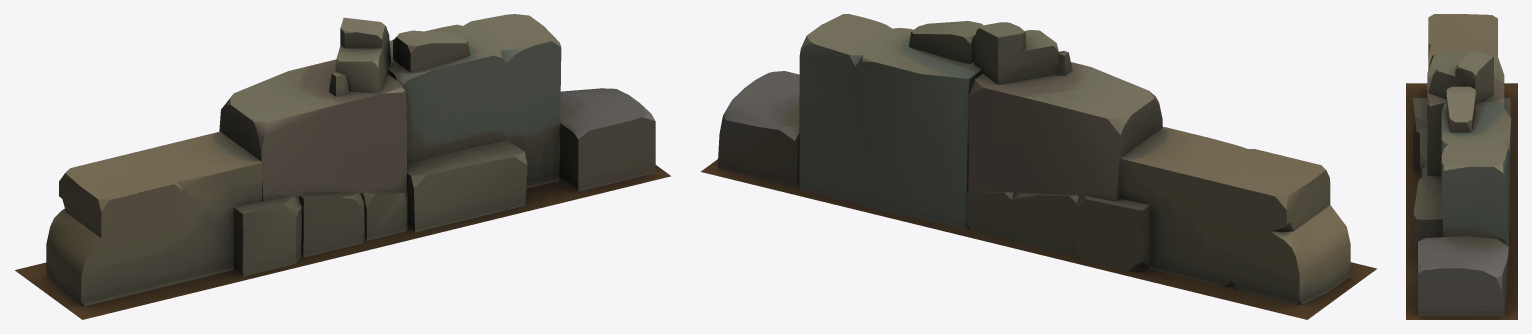
The model's file is RockMid_1.obj.
The picture shows the model from 3 angles, left to right: view 1: azimuth 30°, elevation 25°; view 2: azimuth 150°, elevation 25°; view 3: azimuth 270°, elevation 25°; orthographic projection. The views are drawn at different scales.
Parts seen in each view (by area): view 1: OBJ_MIDRock_01; view 2: OBJ_MIDRock_01; view 3: OBJ_MIDRock_01.
Boxes of the visible parts, x1=… form: OBJ_MIDRock_01: x1=15, y1=14, x2=670, y2=319; OBJ_MIDRock_01: x1=700, y1=14, x2=1376, y2=319; OBJ_MIDRock_01: x1=1406, y1=14, x2=1517, y2=319.
Size of the model in its own units: 0.3 by 0.0925 by 0.06.
1 material, 1 textured.
